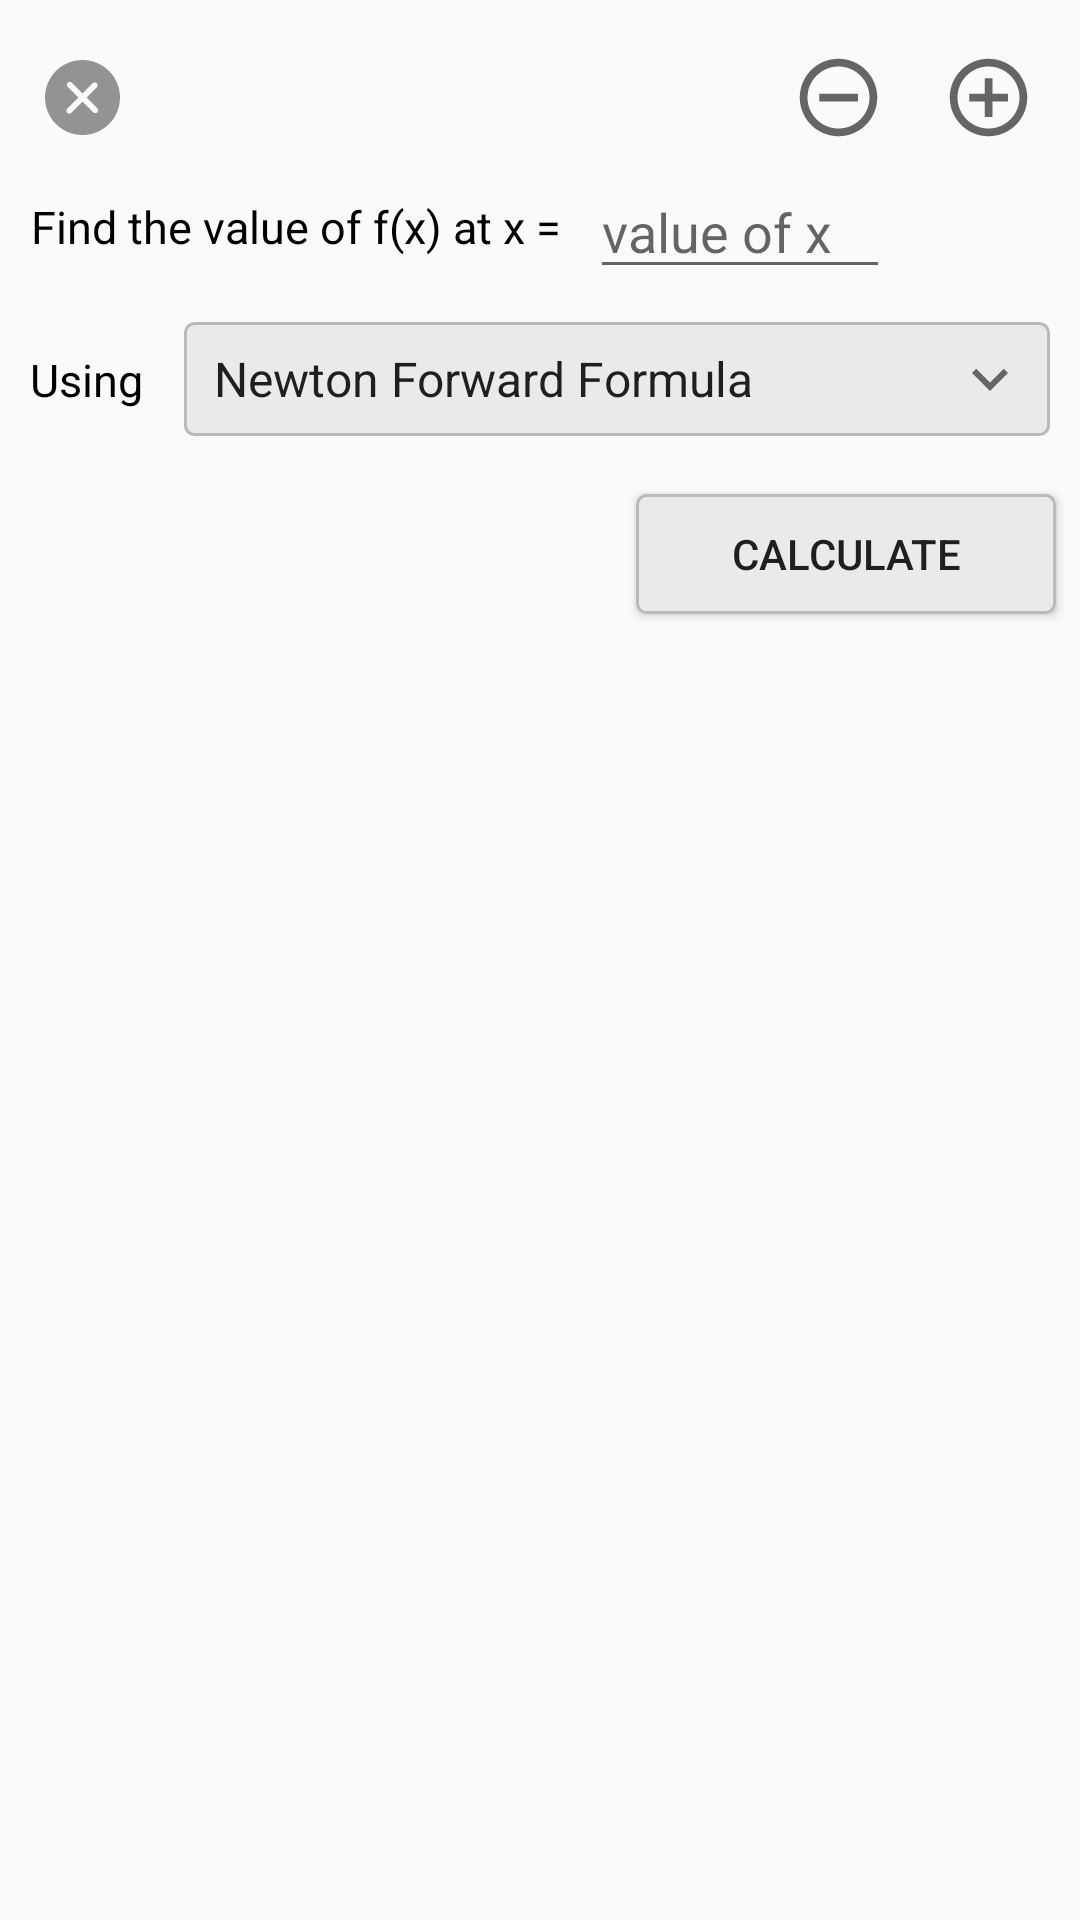

Named icons in this screenshot (1080×1920) and their bounding boxes, {"left": x1, "top": y1, "right": x2, "bottom": y2}:
add circle: {"left": 949, "top": 58, "right": 1028, "bottom": 137}
clear circle: {"left": 45, "top": 60, "right": 120, "bottom": 135}
expand more: {"left": 972, "top": 369, "right": 1008, "bottom": 391}
remove circle: {"left": 799, "top": 58, "right": 878, "bottom": 137}
